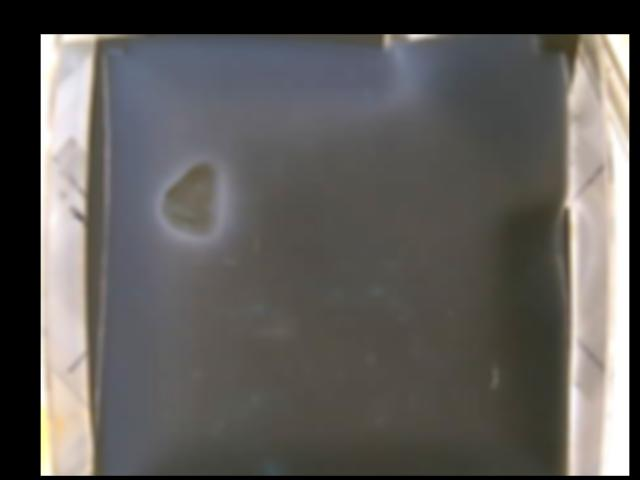Pebble: (160, 159, 221, 237)
